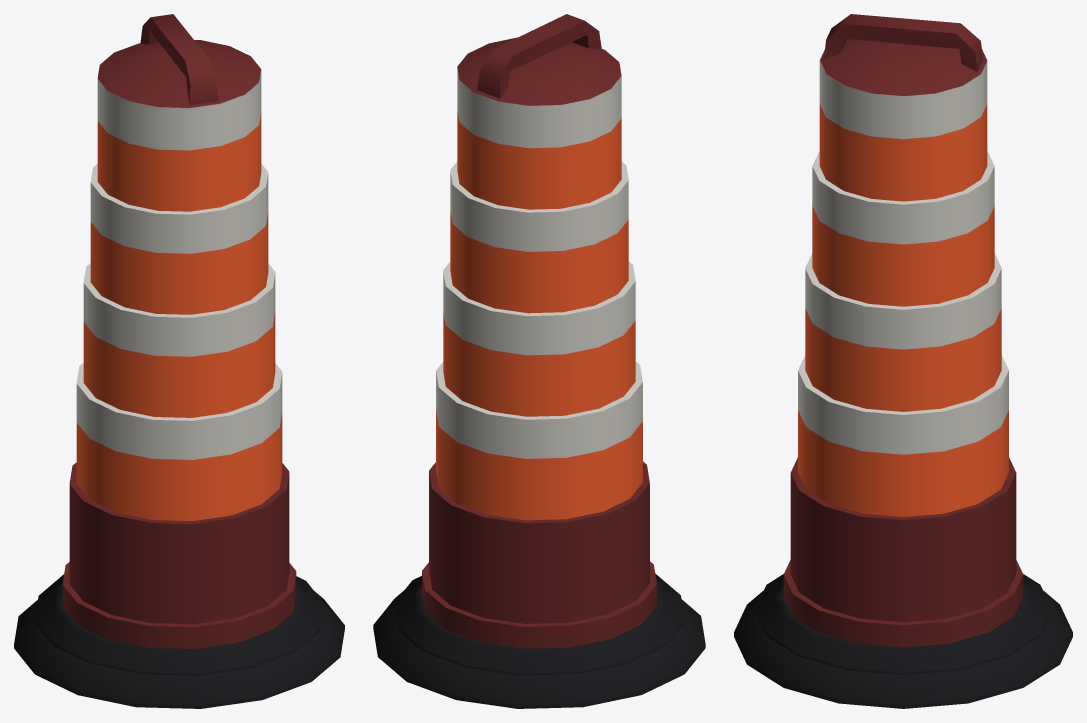
Rendered from SM_Constructioncone_01.glb.
The picture shows the model from 3 angles, left to right: view 1: azimuth 30°, elevation 25°; view 2: azimuth 150°, elevation 25°; view 3: azimuth 270°, elevation 25°; orthographic projection.
Parts seen in each view (by area): view 1: Cylinder003; view 2: Cylinder003; view 3: Cylinder003.
Boxes of the visible parts, left/top/right/bottom form: Cylinder003: left=14, top=14, right=344, bottom=708; Cylinder003: left=373, top=14, right=705, bottom=708; Cylinder003: left=734, top=14, right=1072, bottom=708.
Size of the model in its own units: 1.01 by 2.01 by 1.
Materials: 1 (1 with a texture image).
